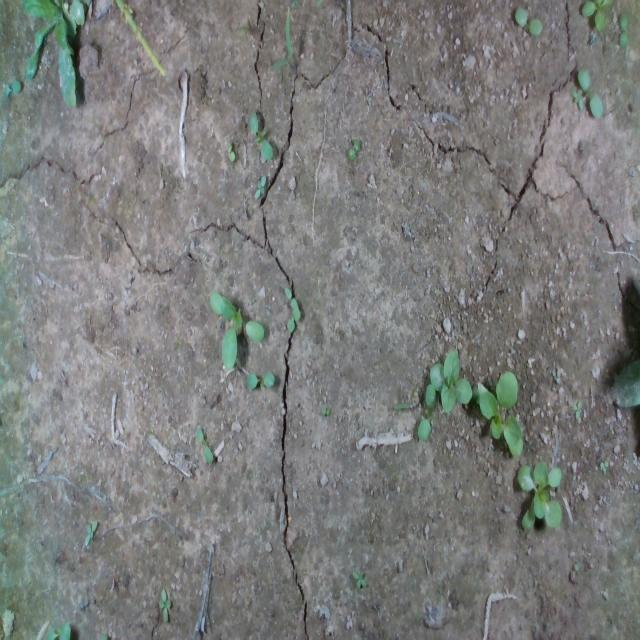weed: (248, 107, 276, 160), (577, 68, 604, 120), (244, 366, 286, 398), (515, 1, 545, 42), (192, 423, 216, 473), (349, 567, 370, 596), (253, 170, 269, 200), (344, 133, 361, 161), (157, 589, 171, 623), (80, 518, 96, 544), (223, 138, 237, 164), (570, 395, 584, 421), (570, 87, 584, 110), (596, 456, 616, 472), (620, 12, 628, 48), (320, 398, 330, 418)
